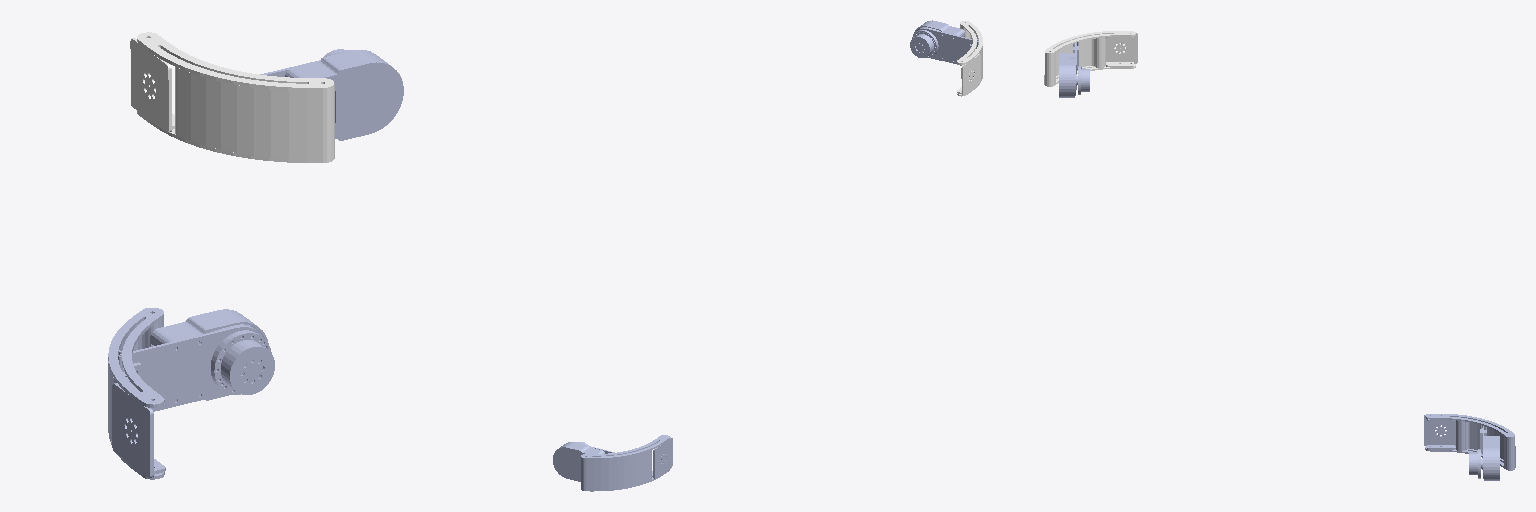
The robot description file, URDF, robot "exoskeleton_btp":
<?xml version="1.0" encoding="utf-8"?>
<!-- This URDF was automatically created by SolidWorks to URDF Exporter! Originally created by [author] ([email redacted]) 
     Commit Version: 1.5.1-0-g916b5db  Build Version: 1.5.7152.31018
     For more information, please see http://wiki.ros.org/sw_urdf_exporter -->
<robot
  name="exoskeleton_btp">
  <link
    name="base_link">
    <inertial>
      <origin
        xyz="0.1374 -0.29296 0.17784"
        rpy="0 0 0" />
      <mass
        value="1.6284" />
      <inertia
        ixx="0.0049242"
        ixy="-1.4133E-05"
        ixz="-1.1068E-07"
        iyy="0.0040482"
        iyz="-6.8671E-06"
        izz="0.0012571" />
    </inertial>
    <visual>
      <origin
        xyz="0 0 0"
        rpy="0 0 0" />
      <geometry>
        <mesh
          filename="package://exoskeleton_btp/meshes/base_link.STL" />
      </geometry>
      <material
        name="">
        <color
          rgba="0.79216 0.81961 0.93333 1" />
      </material>
    </visual>
    <collision>
      <origin
        xyz="0 0 0"
        rpy="0 0 0" />
      <geometry>
        <mesh
          filename="package://exoskeleton_btp/meshes/base_link.STL" />
      </geometry>
    </collision>
  </link>
  <link
    name="left_hip_abd">
    <inertial>
      <origin
        xyz="-0.43742 0.97921 0.70833"
        rpy="0 0 0" />
      <mass
        value="0.39057" />
      <inertia
        ixx="0.0017341"
        ixy="-6.9806E-06"
        ixz="-0.0009688"
        iyy="0.0022726"
        iyz="-8.6331E-06"
        izz="0.0010696" />
    </inertial>
    <visual>
      <origin
        xyz="0 0 0"
        rpy="0 0 0" />
      <geometry>
        <mesh
          filename="package://exoskeleton_btp/meshes/left_hip_abd.STL" />
      </geometry>
      <material
        name="">
        <color
          rgba="0.79216 0.81961 0.93333 1" />
      </material>
    </visual>
    <collision>
      <origin
        xyz="0 0 0"
        rpy="0 0 0" />
      <geometry>
        <mesh
          filename="package://exoskeleton_btp/meshes/left_hip_abd.STL" />
      </geometry>
    </collision>
  </link>
  <joint
    name="left_hip_abd_joint"
    type="revolute">
    <origin
      xyz="0.67224 -0.76251 1.1314"
      rpy="-1.5627 0.00013065 -0.032255" />
    <parent
      link="base_link" />
    <child
      link="left_hip_abd" />
    <axis
      xyz="-0.99987 0 -0.016127" />
    <limit
      lower="-1.57"
      upper="1.57"
      effort="50"
      velocity="2" />
  </joint>
  <link
    name="left_hip_IR">
    <inertial>
      <origin
        xyz="0.39113 -0.15777 -0.00063677"
        rpy="0 0 0" />
      <mass
        value="0.60361" />
      <inertia
        ixx="0.00049231"
        ixy="-2.4394E-07"
        ixz="-1.7406E-05"
        iyy="0.00085484"
        iyz="2.4949E-06"
        izz="0.0011985" />
    </inertial>
    <visual>
      <origin
        xyz="0 0 0"
        rpy="0 0 0" />
      <geometry>
        <mesh
          filename="package://exoskeleton_btp/meshes/left_hip_IR.STL" />
      </geometry>
      <material
        name="">
        <color
          rgba="0.79216 0.81961 0.93333 1" />
      </material>
    </visual>
    <collision>
      <origin
        xyz="0 0 0"
        rpy="0 0 0" />
      <geometry>
        <mesh
          filename="package://exoskeleton_btp/meshes/left_hip_IR.STL" />
      </geometry>
    </collision>
  </link>
  <joint
    name="left_hip_IR_joint"
    type="revolute">
    <origin
      xyz="-0.69634 1.1375 0.73125"
      rpy="0 -0.03127 0.00022748" />
    <parent
      link="left_hip_abd" />
    <child
      link="left_hip_IR" />
    <axis
      xyz="-0.00011727 -0.99997 0.0072704" />
    <limit
      lower="-0.78"
      upper="0.78"
      effort="0"
      velocity="0" />
  </joint>
  <link
    name="left_thigh">
    <inertial>
      <origin
        xyz="-0.005889 -0.29062 -0.040714"
        rpy="0 0 0" />
      <mass
        value="1.1537" />
      <inertia
        ixx="0.0021801"
        ixy="-1.5577E-05"
        ixz="-4.428E-06"
        iyy="0.0013223"
        iyz="5.7443E-05"
        izz="0.0028388" />
    </inertial>
    <visual>
      <origin
        xyz="0 0 0"
        rpy="0 0 0" />
      <geometry>
        <mesh
          filename="package://exoskeleton_btp/meshes/left_thigh.STL" />
      </geometry>
      <material
        name="">
        <color
          rgba="0.79216 0.81961 0.93333 1" />
      </material>
    </visual>
    <collision>
      <origin
        xyz="0 0 0"
        rpy="0 0 0" />
      <geometry>
        <mesh
          filename="package://exoskeleton_btp/meshes/left_thigh.STL" />
      </geometry>
    </collision>
  </link>
  <joint
    name="left_hip_flexion"
    type="continuous">
    <origin
      xyz="0.42071 -0.15849 -0.0074375"
      rpy="0.01454 -0.00010065 -3.1123" />
    <parent
      link="left_hip_IR" />
    <child
      link="left_thigh" />
    <axis
      xyz="5.6331E-05 -0.0072704 -0.99997" />
    <limit
      lower="-1.57"
      upper="1.57"
      effort="50"
      velocity="2" />
  </joint>
  <link
    name="left_shin">
    <inertial>
      <origin
        xyz="0.0021574 -0.24309 0.032772"
        rpy="0 0 0" />
      <mass
        value="1.0395" />
      <inertia
        ixx="0.0023553"
        ixy="1.0349E-06"
        ixz="-5.6239E-06"
        iyy="0.001355"
        iyz="-1.7472E-05"
        izz="0.0031452" />
    </inertial>
    <visual>
      <origin
        xyz="0 0 0"
        rpy="0 0 0" />
      <geometry>
        <mesh
          filename="package://exoskeleton_btp/meshes/left_shin.STL" />
      </geometry>
      <material
        name="">
        <color
          rgba="0.79216 0.81961 0.93333 1" />
      </material>
    </visual>
    <collision>
      <origin
        xyz="0 0 0"
        rpy="0 0 0" />
      <geometry>
        <mesh
          filename="package://exoskeleton_btp/meshes/left_shin.STL" />
      </geometry>
    </collision>
  </link>
  <joint
    name="left_knee_flexion"
    type="continuous">
    <origin
      xyz="-0.0081414 -0.43505 -0.05129"
      rpy="-3.1343 0.00027035 3.1121" />
    <parent
      link="left_thigh" />
    <child
      link="left_shin" />
    <axis
      xyz="0 0 1" />
    <limit
      lower="0"
      upper="1.57"
      effort="50"
      velocity="2" />
  </joint>
  <link
    name="left_foot">
    <inertial>
      <origin
        xyz="0.026746 -0.06054 0.079853"
        rpy="0 0 0" />
      <mass
        value="0.49037" />
      <inertia
        ixx="0.00061537"
        ixy="7.5242E-06"
        ixz="-5.2319E-12"
        iyy="0.00099018"
        iyz="2.6246E-12"
        izz="0.00046094" />
    </inertial>
    <visual>
      <origin
        xyz="0 0 0"
        rpy="0 0 0" />
      <geometry>
        <mesh
          filename="package://exoskeleton_btp/meshes/left_foot.STL" />
      </geometry>
      <material
        name="">
        <color
          rgba="0.79216 0.81961 0.93333 1" />
      </material>
    </visual>
    <collision>
      <origin
        xyz="0 0 0"
        rpy="0 0 0" />
      <geometry>
        <mesh
          filename="package://exoskeleton_btp/meshes/left_foot.STL" />
      </geometry>
    </collision>
  </link>
  <joint
    name="left_ankle_flexion"
    type="revolute">
    <origin
      xyz="0.0031757 -0.40989 0.048"
      rpy="0 0 0" />
    <parent
      link="left_shin" />
    <child
      link="left_foot" />
    <axis
      xyz="0 0 1" />
    <limit
      lower="-0.78"
      upper="0.78"
      effort="0"
      velocity="0" />
  </joint>
  <link
    name="right_hip_abd">
    <inertial>
      <origin
        xyz="0 0 0"
        rpy="0 0 0" />
      <mass
        value="0" />
      <inertia
        ixx="0"
        ixy="0"
        ixz="0"
        iyy="0"
        iyz="0"
        izz="0" />
    </inertial>
    <visual>
      <origin
        xyz="0 0 0"
        rpy="0 0 0" />
      <geometry>
        <mesh
          filename="package://exoskeleton_btp/meshes/right_hip_abd.STL" />
      </geometry>
      <material
        name="">
        <color
          rgba="1 1 1 1" />
      </material>
    </visual>
    <collision>
      <origin
        xyz="0 0 0"
        rpy="0 0 0" />
      <geometry>
        <mesh
          filename="package://exoskeleton_btp/meshes/right_hip_abd.STL" />
      </geometry>
    </collision>
  </link>
  <joint
    name="right_hip_abd_joint"
    type="revolute">
    <origin
      xyz="0.18866 -0.44997 0.15871"
      rpy="1.5762 -8.7598E-05 0" />
    <parent
      link="base_link" />
    <child
      link="right_hip_abd" />
    <axis
      xyz="-0.99987 0 -0.016127" />
    <limit
      lower="-1.57"
      upper="1.57"
      effort="50"
      velocity="2" />
  </joint>
  <link
    name="right_hip_IR">
    <inertial>
      <origin
        xyz="-0.29558 0.96907 0.74644"
        rpy="0 0 0" />
      <mass
        value="0.60361" />
      <inertia
        ixx="0.00049231"
        ixy="-2.4394E-07"
        ixz="-1.7406E-05"
        iyy="0.00085484"
        iyz="2.4949E-06"
        izz="0.0011985" />
    </inertial>
    <visual>
      <origin
        xyz="0 0 0"
        rpy="0 0 0" />
      <geometry>
        <mesh
          filename="package://exoskeleton_btp/meshes/right_hip_IR.STL" />
      </geometry>
      <material
        name="">
        <color
          rgba="0.79216 0.81961 0.93333 1" />
      </material>
    </visual>
    <collision>
      <origin
        xyz="0 0 0"
        rpy="0 0 0" />
      <geometry>
        <mesh
          filename="package://exoskeleton_btp/meshes/right_hip_IR.STL" />
      </geometry>
    </collision>
  </link>
  <joint
    name="right_hip_IR_joint"
    type="revolute">
    <origin
      xyz="0 0.01 0"
      rpy="0 -0.008859 6.4417E-05" />
    <parent
      link="right_hip_abd" />
    <child
      link="right_hip_IR" />
    <axis
      xyz="-0.00011727 -0.99997 0.0072704" />
    <limit
      lower="-0.78"
      upper="0.78"
      effort="0"
      velocity="0" />
  </joint>
  <link
    name="right_thigh">
    <inertial>
      <origin
        xyz="0.41679 -0.13578 0.54096"
        rpy="0 0 0" />
      <mass
        value="1.1537" />
      <inertia
        ixx="0.0021801"
        ixy="-1.5576E-05"
        ixz="-4.4301E-06"
        iyy="0.0013223"
        iyz="5.7444E-05"
        izz="0.0028388" />
    </inertial>
    <visual>
      <origin
        xyz="0 0 0"
        rpy="0 0 0" />
      <geometry>
        <mesh
          filename="package://exoskeleton_btp/meshes/right_thigh.STL" />
      </geometry>
      <material
        name="">
        <color
          rgba="0.79216 0.81961 0.93333 1" />
      </material>
    </visual>
    <collision>
      <origin
        xyz="0 0 0"
        rpy="0 0 0" />
      <geometry>
        <mesh
          filename="package://exoskeleton_btp/meshes/right_thigh.STL" />
      </geometry>
    </collision>
  </link>
  <joint
    name="right_hip_flexion"
    type="revolute">
    <origin
      xyz="-0.68557 0.80659 0.15801"
      rpy="0 0.00014564 0.020031" />
    <parent
      link="right_hip_IR" />
    <child
      link="right_thigh" />
    <axis
      xyz="-5.6331E-05 0.0072704 0.99997" />
    <limit
      lower="-1.57"
      upper="1.57"
      effort="50"
      velocity="2" />
  </joint>
  <link
    name="right_shin">
    <inertial>
      <origin
        xyz="0.41134 -0.51907 0.49965"
        rpy="0 0 0" />
      <mass
        value="1.0284" />
      <inertia
        ixx="0.0023551"
        ixy="-4.165E-05"
        ixz="-5.5356E-06"
        iyy="0.0013544"
        iyz="3.296E-05"
        izz="0.0031449" />
    </inertial>
    <visual>
      <origin
        xyz="0 0 0"
        rpy="0 0 0" />
      <geometry>
        <mesh
          filename="package://exoskeleton_btp/meshes/right_shin.STL" />
      </geometry>
      <material
        name="">
        <color
          rgba="0.79216 0.81961 0.93333 1" />
      </material>
    </visual>
    <collision>
      <origin
        xyz="0 0 0"
        rpy="0 0 0" />
      <geometry>
        <mesh
          filename="package://exoskeleton_btp/meshes/right_shin.STL" />
      </geometry>
    </collision>
  </link>
  <joint
    name="right_knee_flexion"
    type="revolute">
    <origin
      xyz="0 0 0"
      rpy="0 -4.2582E-05 -0.0058569" />
    <parent
      link="right_thigh" />
    <child
      link="right_shin" />
    <axis
      xyz="-5.6331E-05 0.0072704 0.99997" />
    <limit
      lower="0"
      upper="1.57"
      effort="50"
      velocity="2" />
  </joint>
  <link
    name="right_foot">
    <inertial>
      <origin
        xyz="0.027021 -0.059446 0.078709"
        rpy="0 0 0" />
      <mass
        value="0.48847" />
      <inertia
        ixx="0.00061513"
        ixy="3.5008E-06"
        ixz="-1.6769E-08"
        iyy="0.00099029"
        iyz="-3.8487E-06"
        izz="0.00046094" />
    </inertial>
    <visual>
      <origin
        xyz="0 0 0"
        rpy="0 0 0" />
      <geometry>
        <mesh
          filename="package://exoskeleton_btp/meshes/right_foot.STL" />
      </geometry>
      <material
        name="">
        <color
          rgba="0.79216 0.81961 0.93333 1" />
      </material>
    </visual>
    <collision>
      <origin
        xyz="0 0 0"
        rpy="0 0 0" />
      <geometry>
        <mesh
          filename="package://exoskeleton_btp/meshes/right_foot.STL" />
      </geometry>
    </collision>
  </link>
  <joint
    name="right_ankle_flexion"
    type="revolute">
    <origin
      xyz="0.40858 -0.68621 0.32746"
      rpy="0 -0.00017972 -0.024724" />
    <parent
      link="right_shin" />
    <child
      link="right_foot" />
    <axis
      xyz="5.6331E-05 -0.0072704 -0.99997" />
    <limit
      lower="-0.78"
      upper="0.78"
      effort="0"
      velocity="0" />
  </joint>
</robot>

--- Facts derived from the render (not from the file) ---
Views: 3 orthographic renders of the robot side by side, from view 1: azimuth 30°, elevation 25°; view 2: azimuth 150°, elevation 25°; view 3: azimuth 270°, elevation 25°.
Model exoskeleton_btp with 11 links and 10 joints (8 revolute, 2 continuous), rooted at base_link, posed all joints at 0.
Visible links, largest first — view 1: right_hip_abd, left_hip_IR, left_hip_abd, right_hip_IR; view 2: left_hip_abd, right_hip_IR, right_hip_abd, left_hip_IR; view 3: right_hip_abd, left_hip_abd, left_hip_IR, right_hip_IR.
Link boxes in pixels (x1,y1,x2,y2): right_hip_abd: [130, 32, 334, 162]; left_hip_IR: [118, 309, 274, 411]; left_hip_abd: [108, 308, 165, 479]; right_hip_IR: [260, 49, 403, 140]; left_hip_abd: [581, 435, 672, 491]; right_hip_IR: [910, 20, 978, 63]; right_hip_abd: [957, 21, 982, 96]; left_hip_IR: [553, 442, 614, 481]; right_hip_abd: [1044, 31, 1137, 86]; left_hip_abd: [1424, 414, 1515, 470]; left_hip_IR: [1469, 425, 1499, 480]; right_hip_IR: [1059, 42, 1089, 97].
Size in the robot's own frame: 0.7795 by 1.35 by 1.08 metres.
Meshes: 11 distinct files referenced, 4 mesh visuals loaded (4 binary STL); not drawn: 7 (reference not matched to a file when rendering).